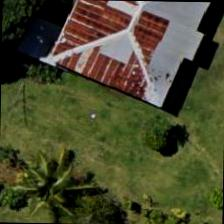Kelapa_Sawit: (11, 142, 103, 223)
